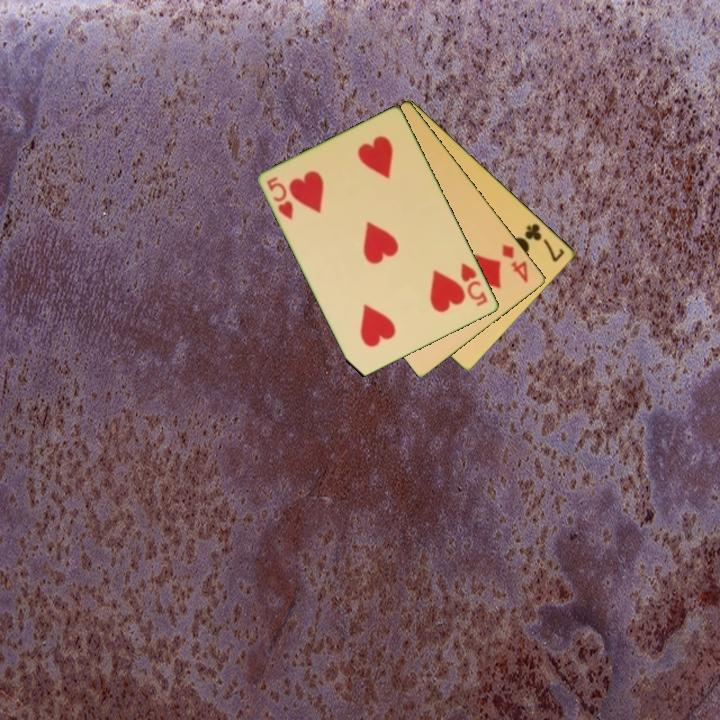4d: (498, 240, 531, 286)
5h: (263, 173, 297, 223), (457, 260, 491, 309)
7c: (522, 220, 568, 265)
